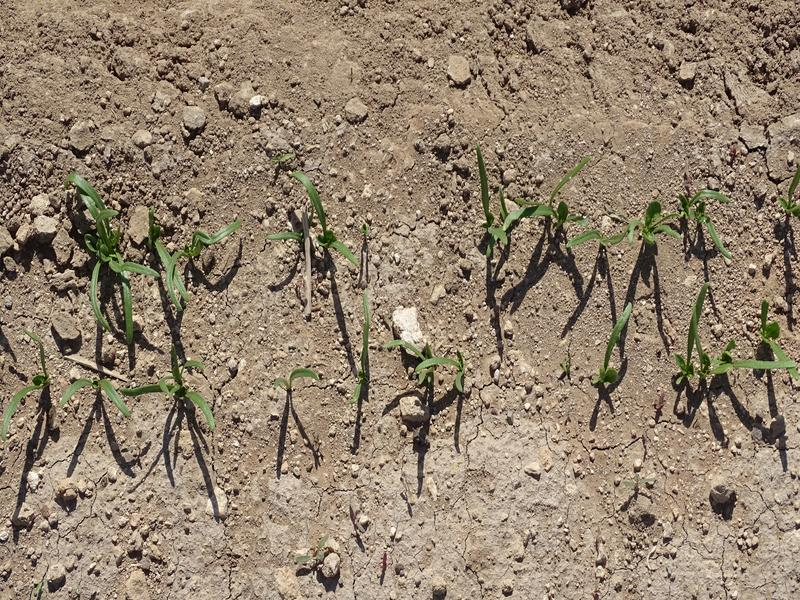Espinaca: (459, 153, 733, 260), (669, 292, 800, 384), (66, 182, 148, 327), (278, 170, 361, 278), (161, 220, 226, 306), (135, 359, 216, 425), (590, 298, 636, 401), (2, 337, 48, 425), (398, 345, 469, 384), (351, 296, 377, 397), (66, 374, 130, 413), (271, 358, 325, 397), (780, 166, 800, 218)
